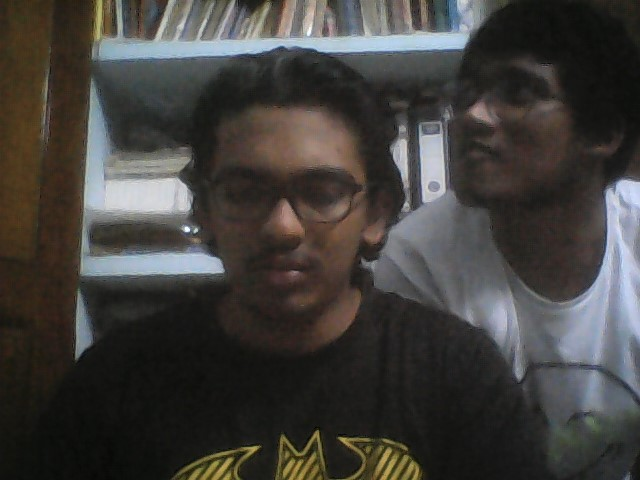person: (35, 46, 508, 480), (397, 3, 639, 366)
